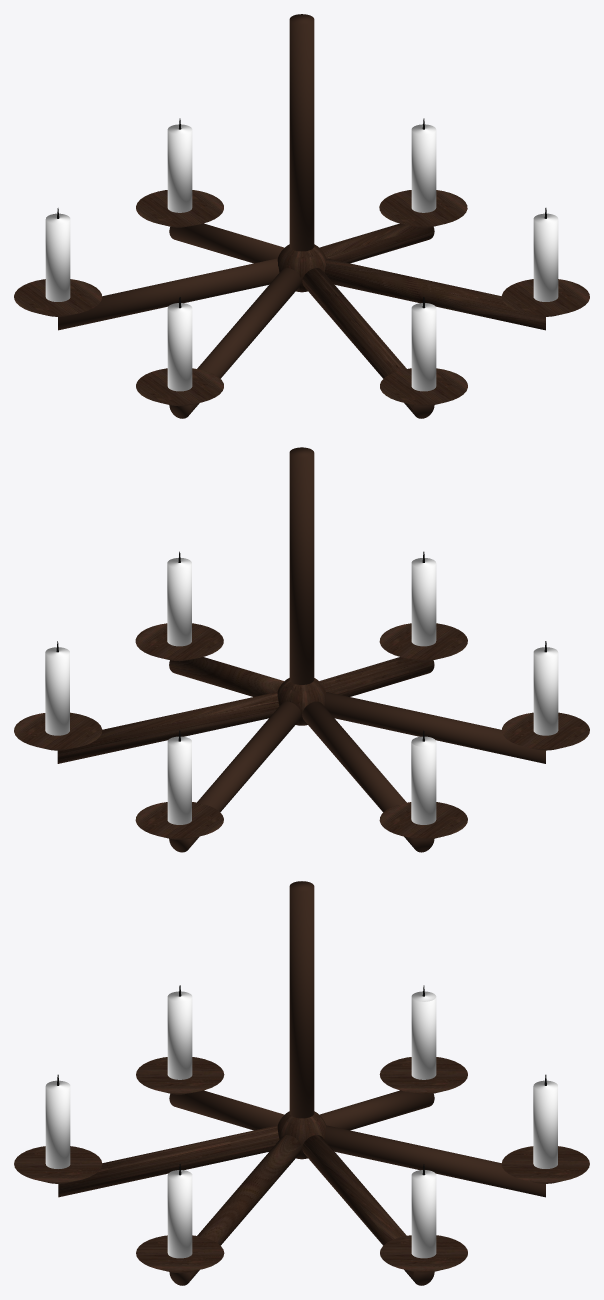
File: chandelier.fbx
3 renders of one model, top to bottom at view 1: azimuth 30°, elevation 25°; view 2: azimuth 150°, elevation 25°; view 3: azimuth 270°, elevation 25°, orthographic.
Visible parts, largest first — view 1: Circle.001, Circle; view 2: Circle.001, Circle; view 3: Circle.001, Circle.
Part boxes in pixels (x1=…): Circle.001: x1=14, y1=14, x2=589, y2=418; Circle: x1=45, y1=118, x2=558, y2=391; Circle.001: x1=14, y1=447, x2=589, y2=852; Circle: x1=45, y1=551, x2=558, y2=824; Circle.001: x1=14, y1=881, x2=589, y2=1285; Circle: x1=45, y1=985, x2=557, y2=1258.
Size of the model in its own units: 4140 by 2772 by 4669.
2 materials, 2 textured.
